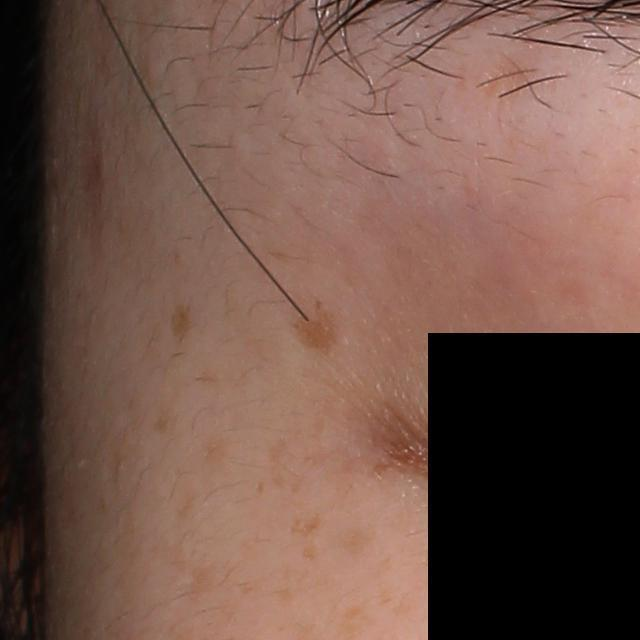melasma: (156, 296, 207, 355), (296, 304, 351, 357), (286, 517, 320, 548)
